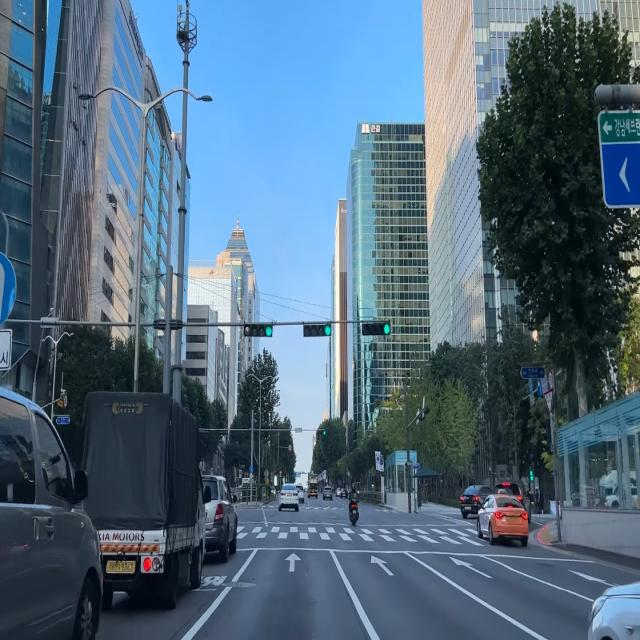Green Light: (264, 323, 272, 337), (324, 324, 332, 336), (383, 323, 390, 334)
